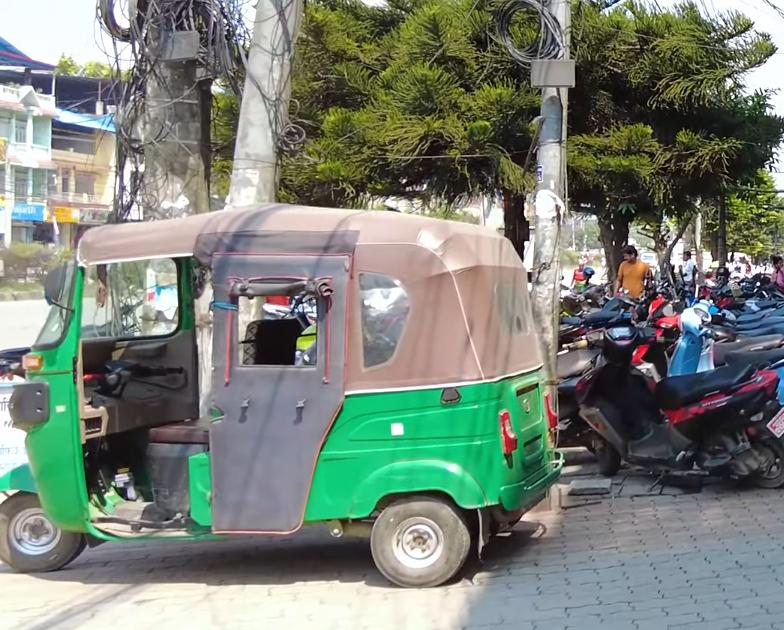auto_rickshaw: (0, 197, 575, 585)
scooter: (563, 317, 784, 497)
